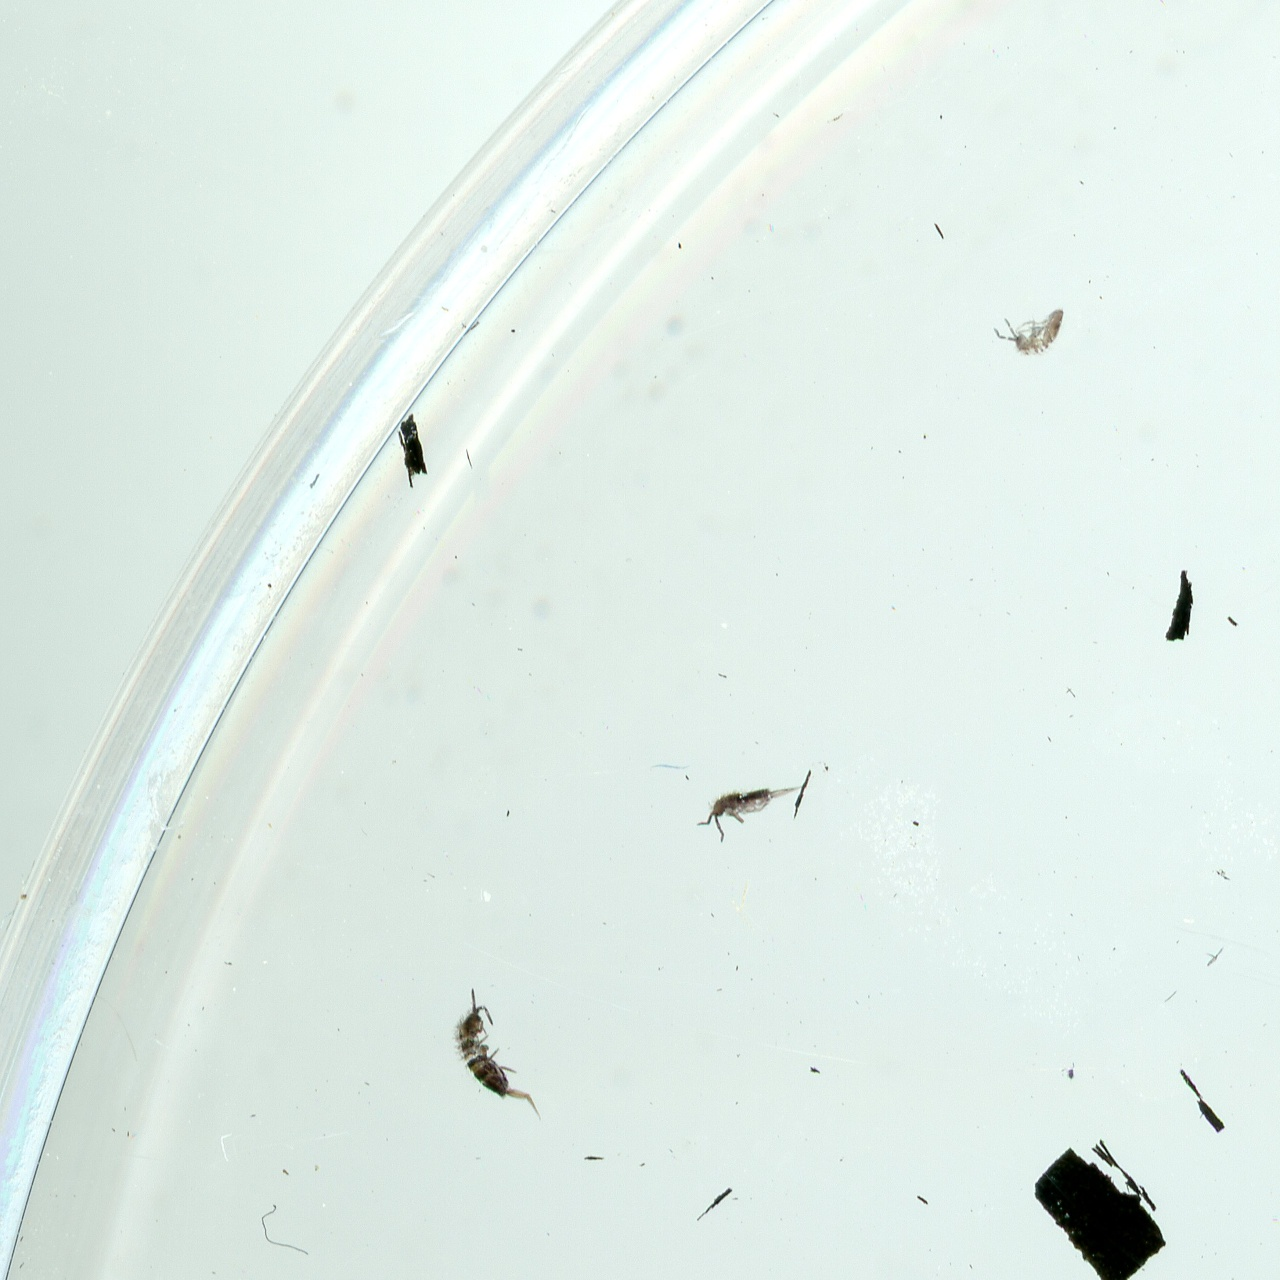arthropod: (431, 982, 547, 1144), (690, 776, 810, 850), (992, 306, 1067, 359)
